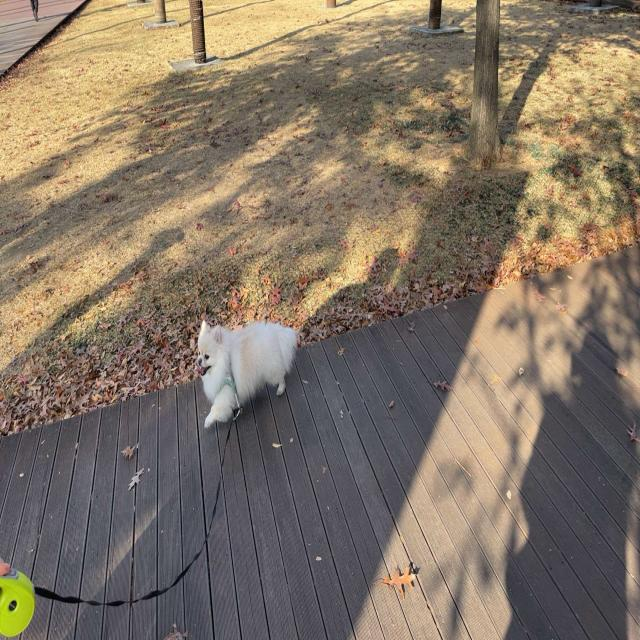Dog: (196, 316, 300, 430)
